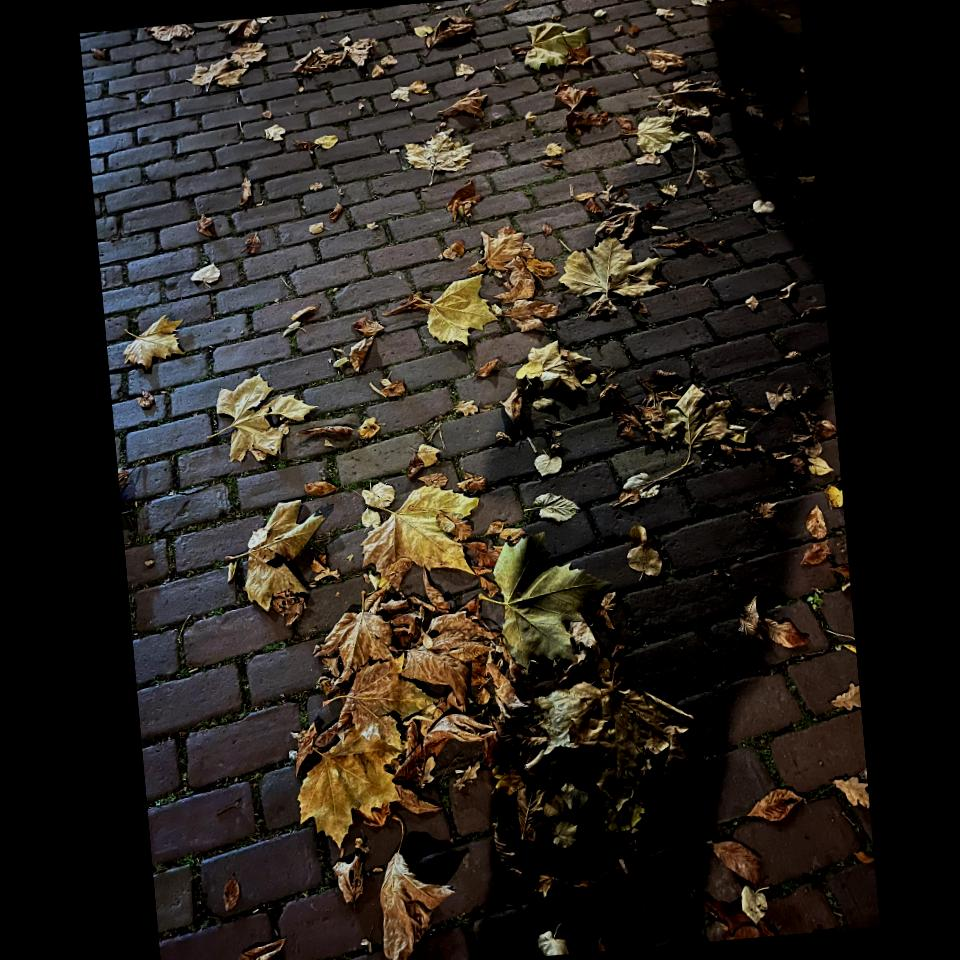weed: (806, 590, 822, 611)
